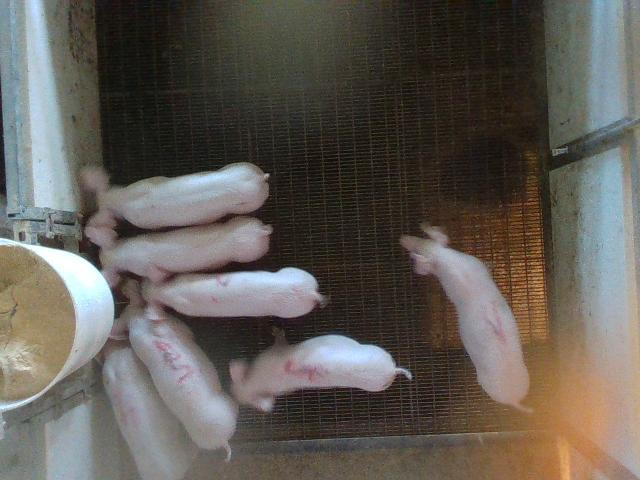pig-3: (110, 279, 238, 456)
pig-4: (104, 340, 198, 479)
pig-5: (230, 335, 410, 411)
